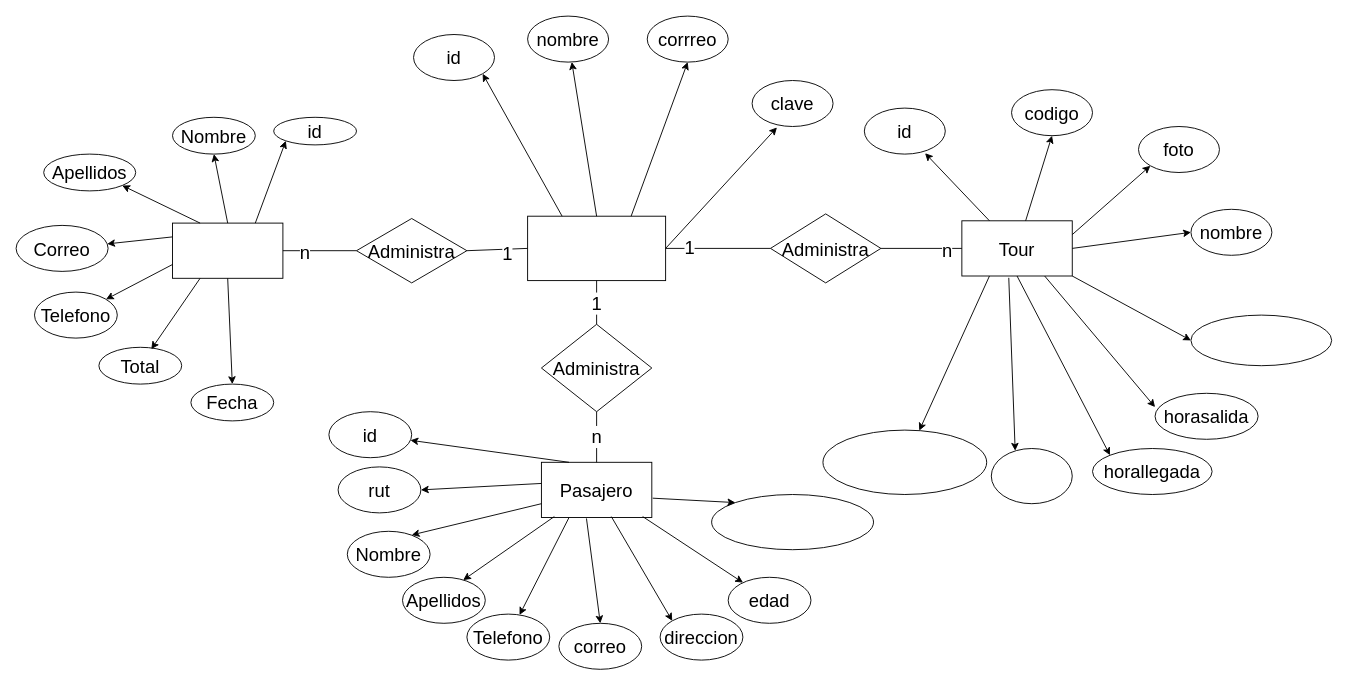
Some shapes in this 1348 by 685 pixel diagram are drawn without their labels. The box of each missing label's shape, as (x1, y1, x2, y2) in pixels:
Administrador: (527, 215, 666, 281)
descipciongeneral: (822, 429, 987, 494)
itinerario: (990, 448, 1072, 504)
nacionalidad: (711, 494, 874, 550)
preciogeneral: (1190, 314, 1332, 366)
venta: (172, 222, 283, 278)
